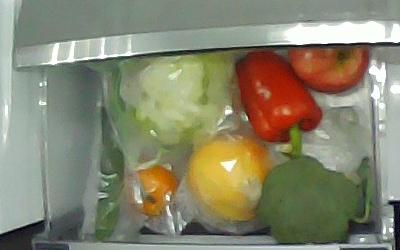apple: (288, 47, 370, 94)
broccoli: (254, 154, 372, 245)
cucumber_vinyl: (95, 67, 124, 242)
grapefruit_vinyl: (186, 135, 270, 222)
lettuce_vinyl: (119, 52, 242, 150)
paprika: (235, 50, 323, 160)
peach_vinyl: (125, 164, 179, 217)
